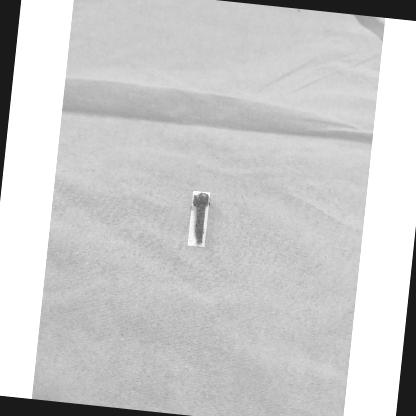sedang: (192, 193, 209, 246)
